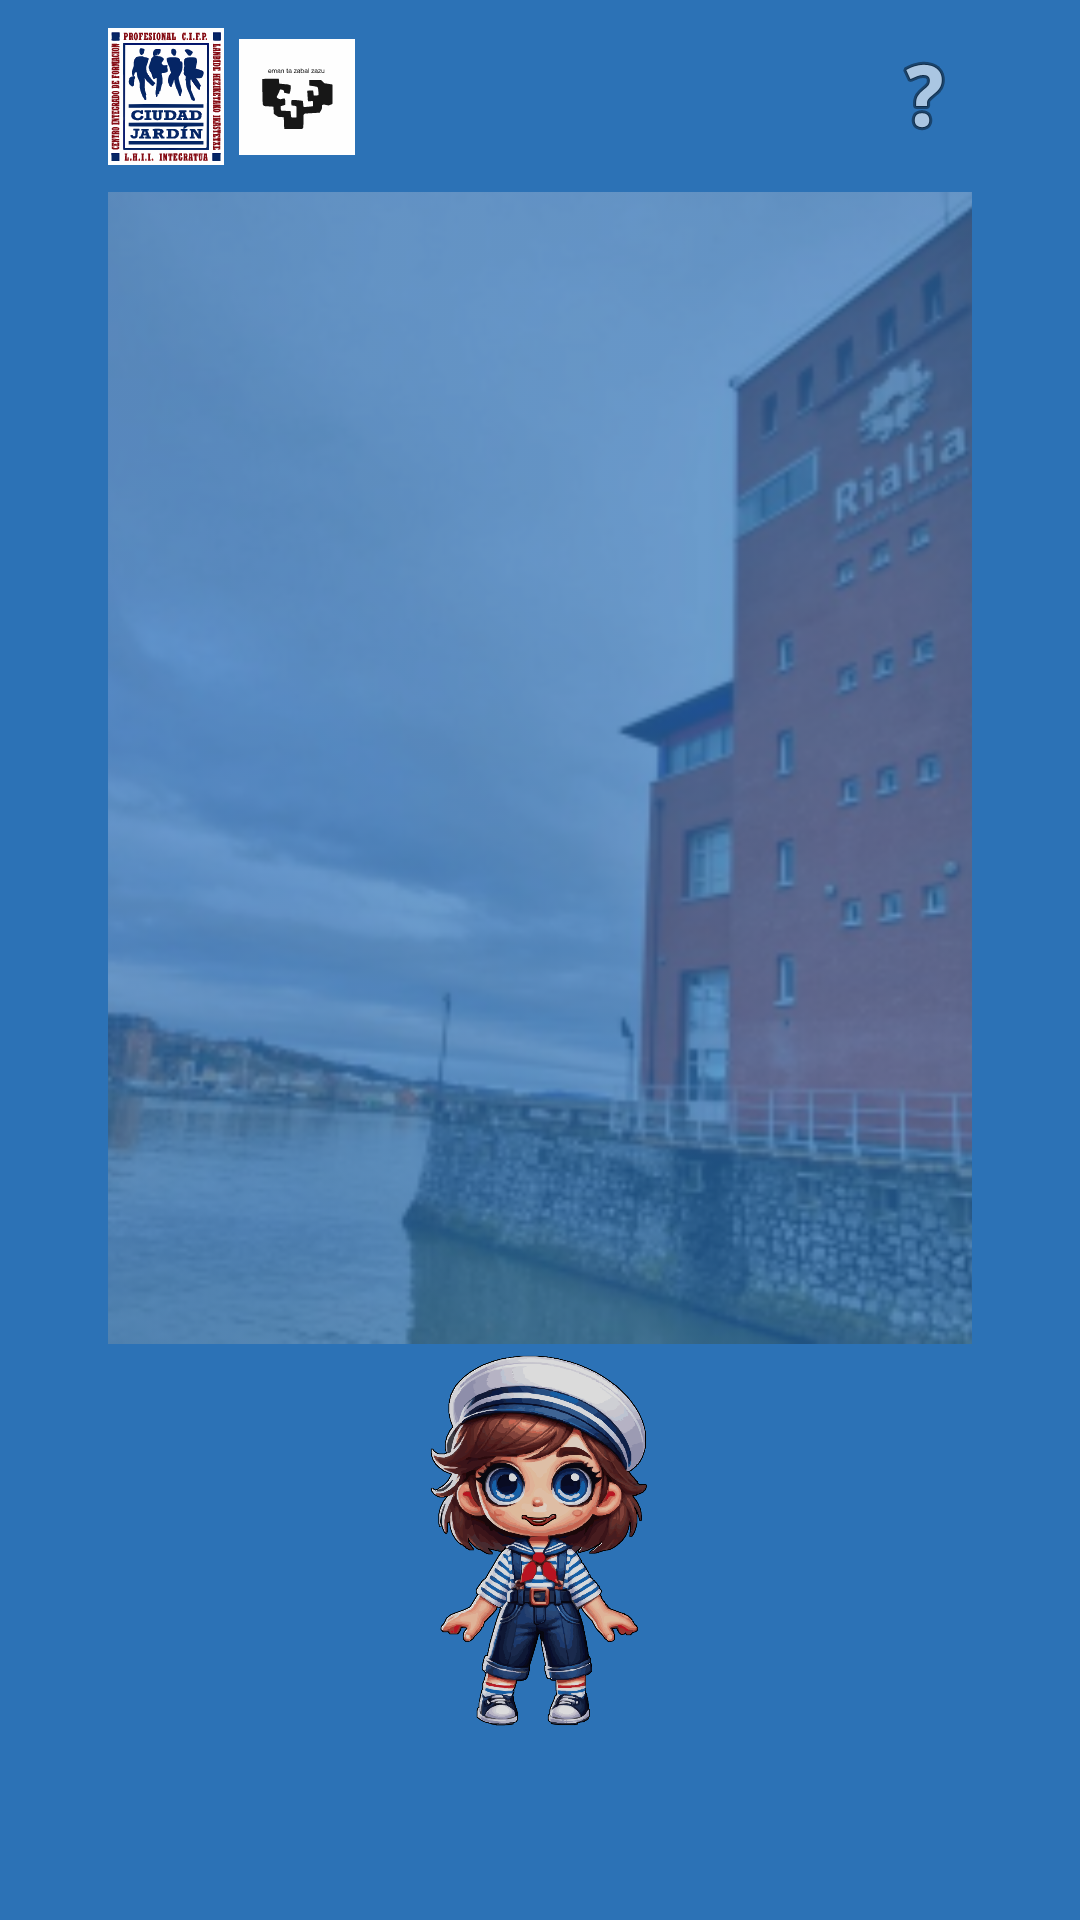

Screen size 1080px×1920px. Icon name, then its box in pixels as (x1, y1, x2, y2):
help: (903, 62, 945, 130)
